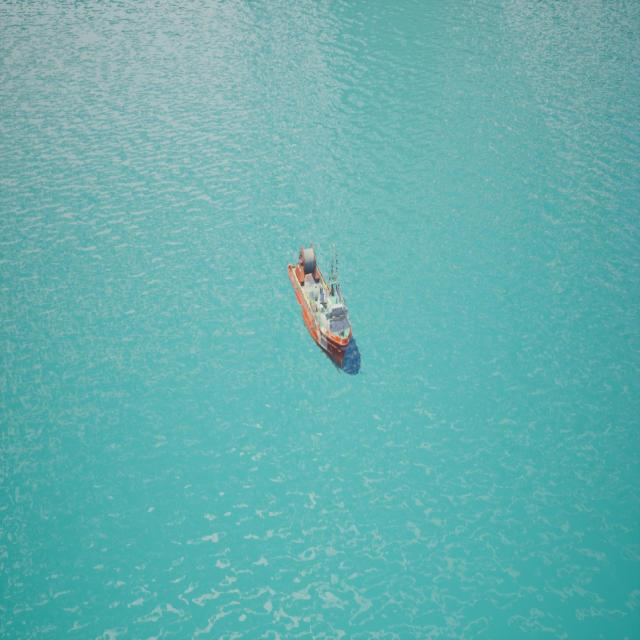tug boat: (278, 224, 366, 385)
